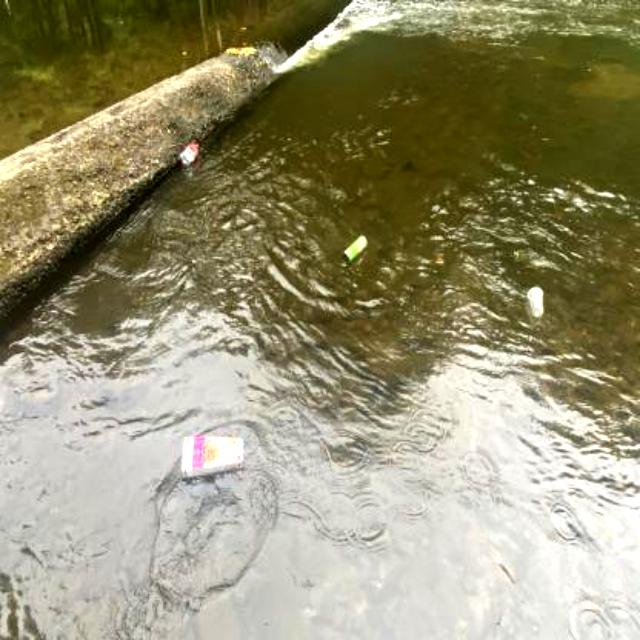Cardboard: (174, 430, 250, 486)
Metal: (338, 230, 372, 266)
Plastic: (174, 138, 202, 170), (524, 284, 546, 320)
